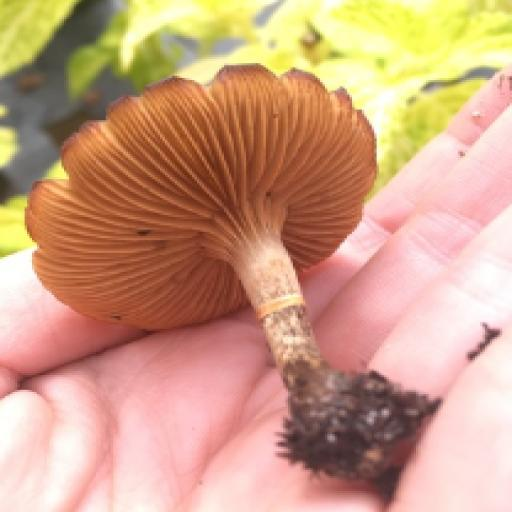mushroom: (16, 55, 427, 450)
